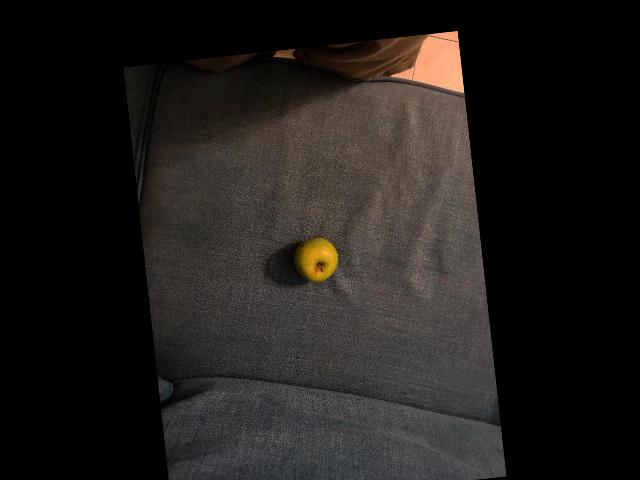apple: (294, 220, 354, 283)
